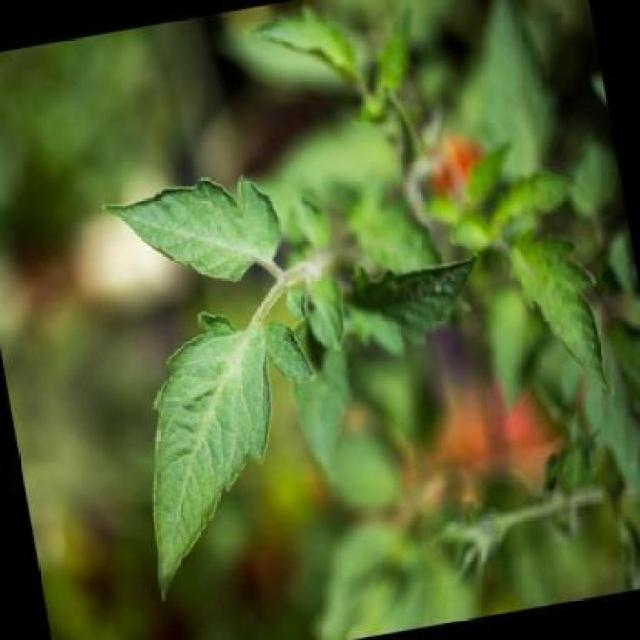Healthy Leaf: (88, 302, 324, 626), (74, 149, 308, 306), (480, 202, 637, 426)
